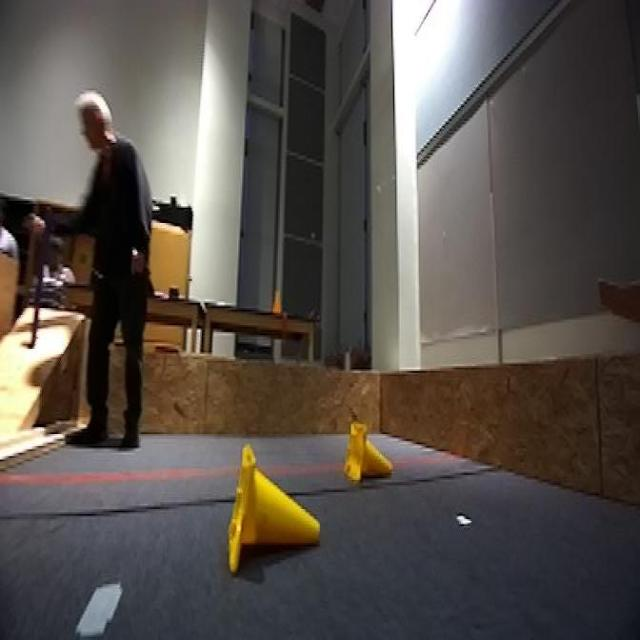frc_cone: (224, 448, 325, 570), (349, 424, 396, 485)
